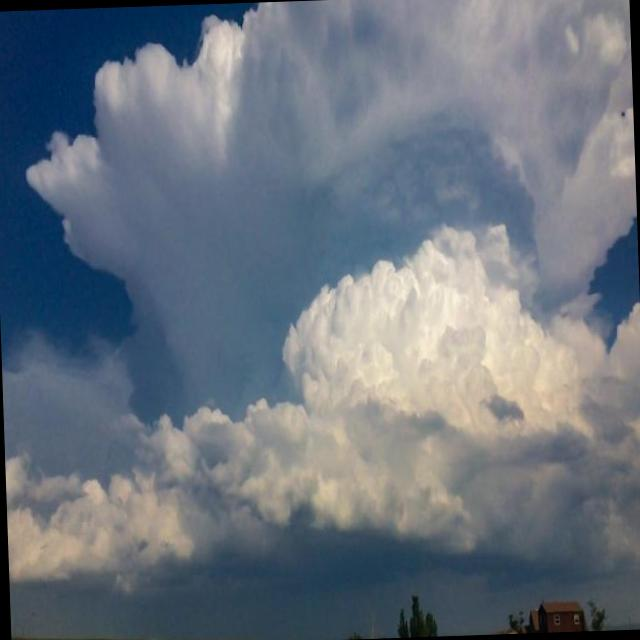cumulonimbus: (0, 0, 640, 505)
nimbostratus: (13, 523, 640, 627)
